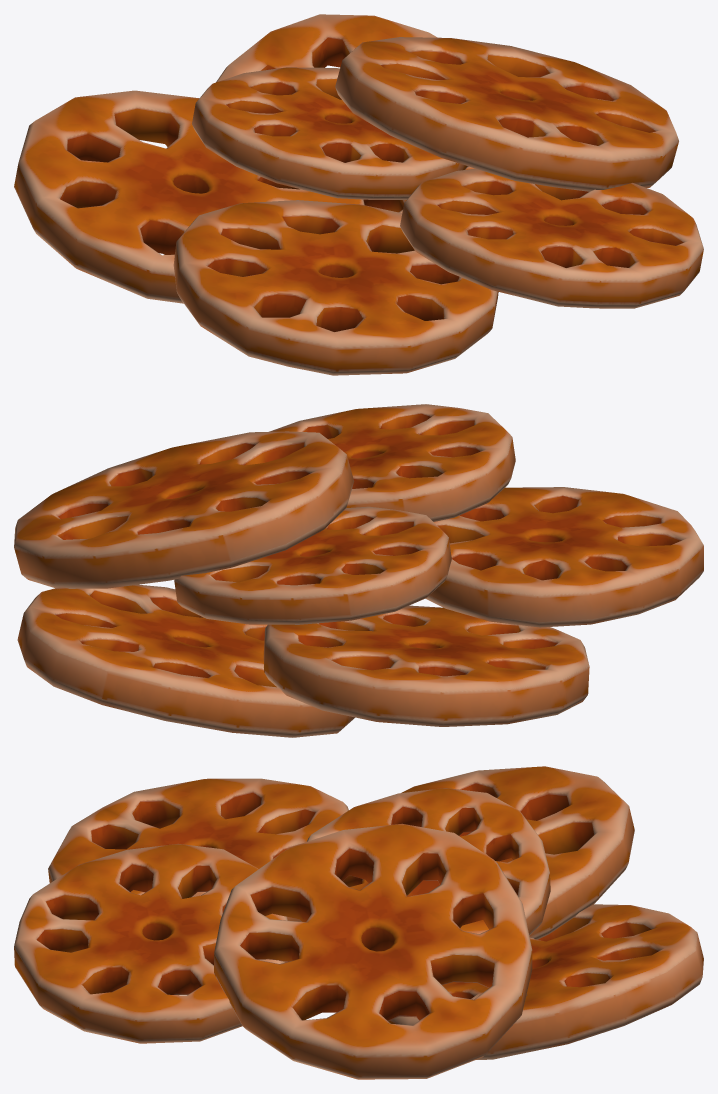
The model's file is Plate03.fbx.
3 views of the same model, one above another, from view 1: azimuth 30°, elevation 25°; view 2: azimuth 150°, elevation 25°; view 3: azimuth 270°, elevation 25° (orthographic). The views are drawn at different scales.
Visible parts, largest first — view 1: Dessert03Plate; view 2: Dessert03Plate; view 3: Dessert03Plate.
Boxes of the visible parts, bbox=[...] form: Dessert03Plate: bbox=[14, 14, 703, 375]; Dessert03Plate: bbox=[14, 404, 703, 737]; Dessert03Plate: bbox=[14, 766, 703, 1079].
Bounding box in the file's own units: 23.33 × 7.44 × 24.71.
1 material, 1 textured.
